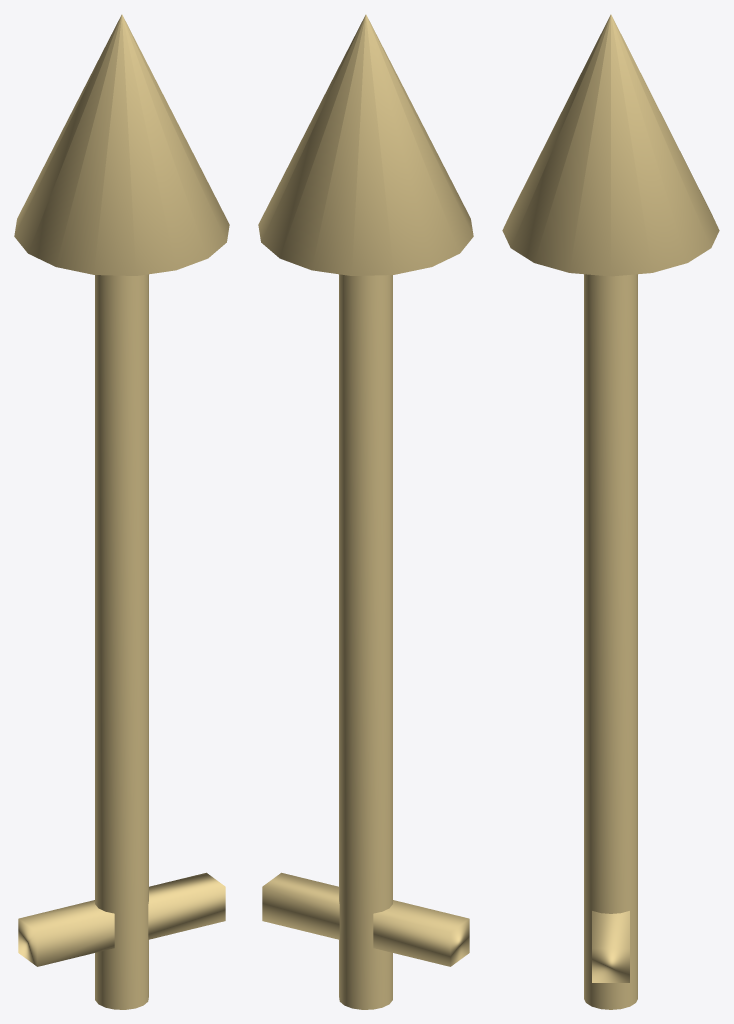
File: dipole-arrow.glb
3 views of the same model, side by side, from view 1: azimuth 30°, elevation 25°; view 2: azimuth 150°, elevation 25°; view 3: azimuth 270°, elevation 25° (orthographic).
Parts seen in each view (by area): view 1: vector_shaft, vector_head, positive_end_cross; view 2: vector_shaft, vector_head, positive_end_cross; view 3: vector_shaft, vector_head, positive_end_cross.
Part boxes in pixels (bbox=[...]): vector_shaft: bbox=[95, 274, 148, 1009]; vector_head: bbox=[14, 14, 229, 275]; positive_end_cross: bbox=[18, 872, 225, 966]; vector_shaft: bbox=[339, 274, 392, 1009]; vector_head: bbox=[258, 14, 473, 275]; positive_end_cross: bbox=[262, 872, 469, 966]; vector_shaft: bbox=[584, 274, 637, 1009]; vector_head: bbox=[502, 14, 719, 276]; positive_end_cross: bbox=[592, 911, 629, 982].
Size of the model in its own units: 0.2 by 1 by 0.2.
